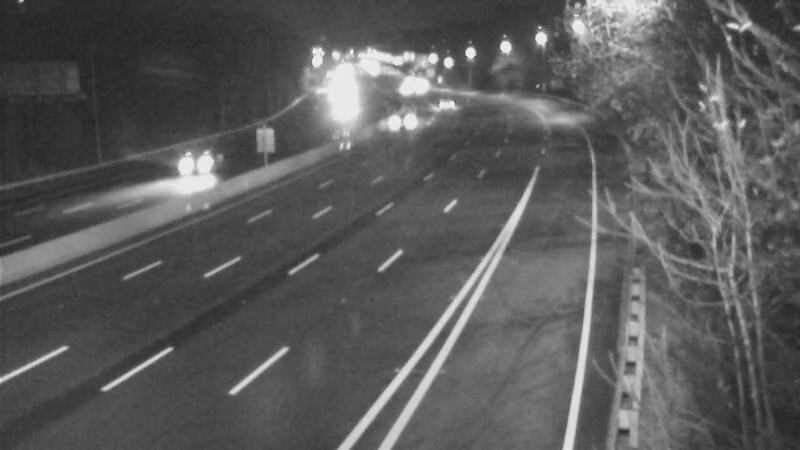vehicle: (166, 126, 246, 206), (419, 79, 469, 129), (382, 90, 432, 140)
